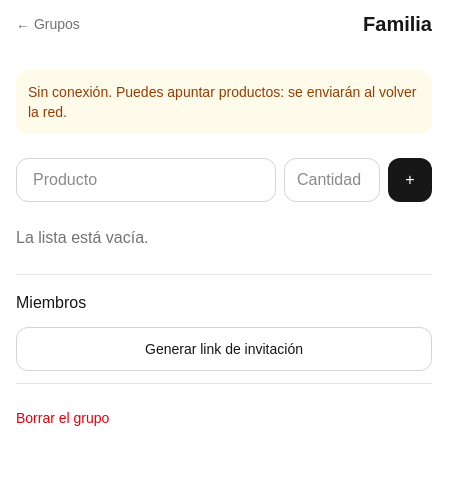
Spec J · el enlace de invitación se comparte › j11 bis: con share pero canShare diciendo que no, se pinta Copiar
Click the button with test id "create-invite" at [224, 349], box [16,327,432,371]
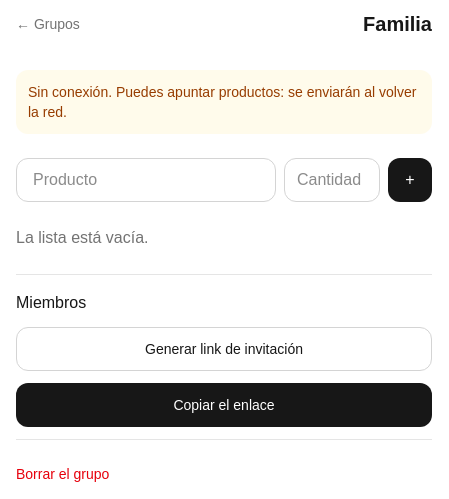
expect the button with test id "copy-invite" is shown: met, box [16,383,432,427]
